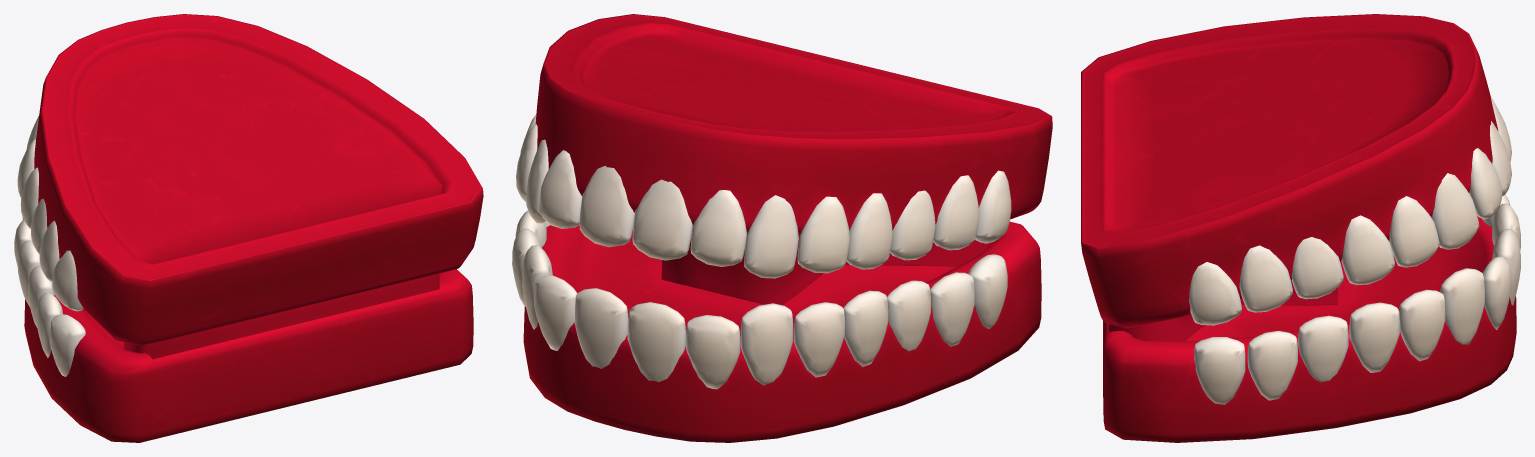
Rendered from teeth.glb.
The picture shows the model from 3 angles, left to right: view 1: azimuth 30°, elevation 25°; view 2: azimuth 150°, elevation 25°; view 3: azimuth 270°, elevation 25°; orthographic projection. The views are drawn at different scales.
Parts seen in each view (by area): view 1: Box002_01 - Default_0, Box002_02 - Default_0.034, Box002_02 - Default_0.007, Box002_02 - Default_0.033, Box002_02 - Default_0.006, Box002_02 - Default_0.031, Box002_02 - Default_0.032, Box002_02 - Default_0.004, Box002_02 - Default_0.005, Box002_02 - Default_0.003; view 2: Box002_01 - Default_0, Box002_02 - Default_0, Box002_02 - Default_0.027, Box002_02 - Default_0.002, Box002_02 - Default_0.029, Box002_02 - Default_0.009, Box002_02 - Default_0.018, Box002_02 - Default_0.001, Box002_02 - Default_0.028, Box002_02 - Default_0.003, Box002_02 - Default_0.030, Box002_02 - Default_0.004 (+14 smaller); view 3: Box002_01 - Default_0, Box002_02 - Default_0.025, Box002_02 - Default_0.022, Box002_02 - Default_0.024, Box002_02 - Default_0.013, Box002_02 - Default_0.015, Box002_02 - Default_0.012, Box002_02 - Default_0.023, Box002_02 - Default_0.016, Box002_02 - Default_0.020, Box002_02 - Default_0.011, Box002_02 - Default_0.021 (+6 smaller).
Part boxes in pixels (<box>): Box002_01 - Default_0: <box>24,14,483,442</box>; Box002_02 - Default_0.034: <box>49,314,85,376</box>; Box002_02 - Default_0.007: <box>52,250,83,311</box>; Box002_02 - Default_0.033: <box>36,292,62,357</box>; Box002_02 - Default_0.006: <box>39,220,59,282</box>; Box002_02 - Default_0.031: <box>18,240,40,306</box>; Box002_02 - Default_0.032: <box>28,266,54,327</box>; Box002_02 - Default_0.004: <box>20,167,38,228</box>; Box002_02 - Default_0.005: <box>31,199,47,254</box>; Box002_02 - Default_0.003: <box>17,139,35,197</box>; Box002_01 - Default_0: <box>523,14,1052,442</box>; Box002_02 - Default_0: <box>632,179,692,260</box>; Box002_02 - Default_0.027: <box>627,302,685,382</box>; Box002_02 - Default_0.002: <box>744,195,798,278</box>; Box002_02 - Default_0.029: <box>740,303,793,385</box>; Box002_02 - Default_0.009: <box>579,166,634,247</box>; Box002_02 - Default_0.018: <box>574,288,628,368</box>; Box002_02 - Default_0.001: <box>690,190,746,266</box>; Box002_02 - Default_0.028: <box>686,315,740,389</box>; Box002_02 - Default_0.003: <box>797,196,850,273</box>; Box002_02 - Default_0.030: <box>794,302,845,377</box>; Box002_02 - Default_0.004: <box>846,193,892,269</box>; Box002_01 - Default_0: <box>1081,14,1516,442</box>; Box002_02 - Default_0.025: <box>1194,337,1245,404</box>; Box002_02 - Default_0.022: <box>1349,302,1399,372</box>; Box002_02 - Default_0.024: <box>1247,330,1297,400</box>; Box002_02 - Default_0.013: <box>1341,215,1394,285</box>; Box002_02 - Default_0.015: <box>1239,245,1292,312</box>; Box002_02 - Default_0.012: <box>1389,196,1439,267</box>; Box002_02 - Default_0.023: <box>1298,315,1348,382</box>; Box002_02 - Default_0.016: <box>1189,262,1241,325</box>; Box002_02 - Default_0.020: <box>1440,268,1484,344</box>; Box002_02 - Default_0.011: <box>1431,173,1479,249</box>; Box002_02 - Default_0.021: <box>1399,289,1445,361</box>.
Bounding box in the file's own units: 1.37 × 0.8782 × 1.24.
Materials: 2 (2 with a texture image).
